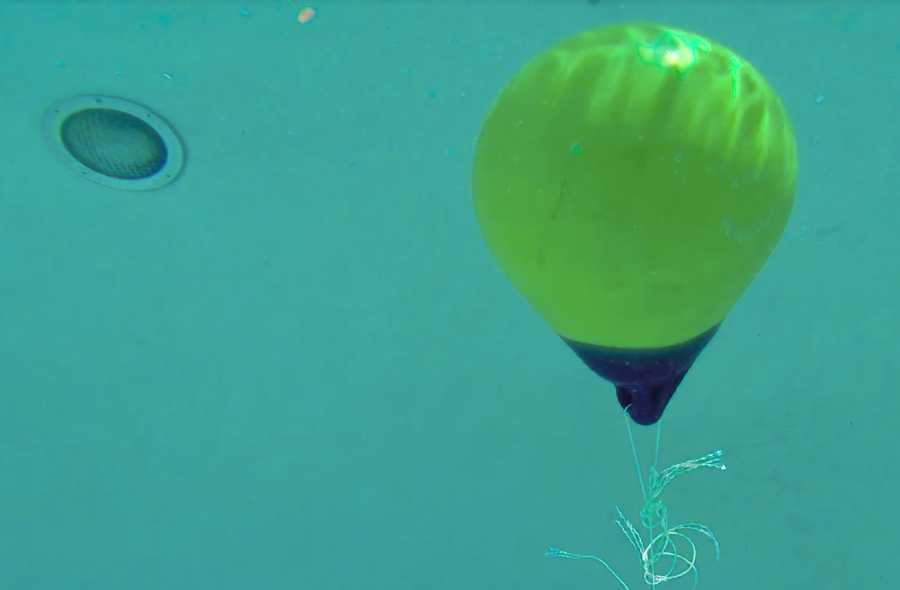yellow_buoy: (465, 15, 811, 440)
